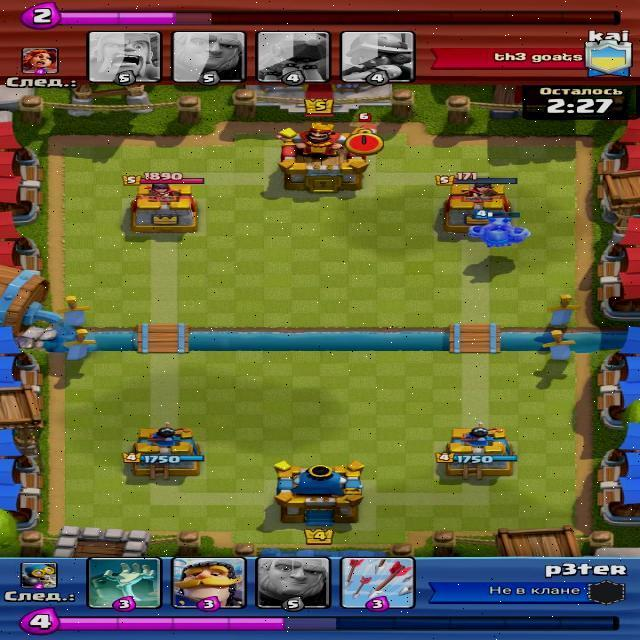EKingTower: (280, 133, 374, 185)
EnemyPrincessTower: (122, 174, 211, 236), (436, 176, 514, 222)
OMegam: (473, 213, 528, 251)
OwnKingTower: (269, 459, 362, 523)
OwnPrincessTower: (445, 416, 511, 479), (131, 424, 199, 477)
